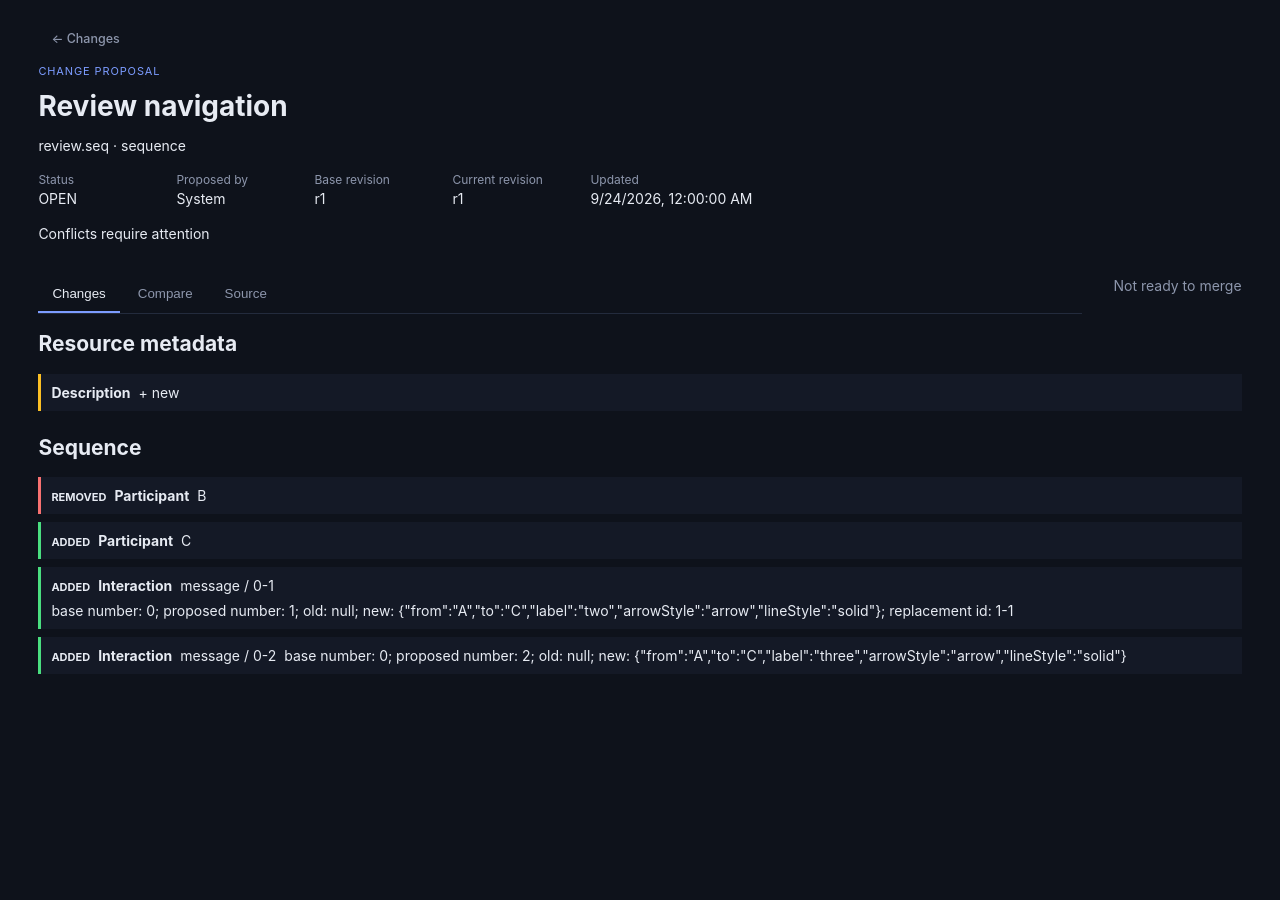
proposal review change navigation › sequence › disables previous at the start and next at the end
What coordinates should you click on to do the following:
click the button "Compare"
I would click on:
 (165, 294)
Its box is top-left (124, 276), bottom-right (207, 313).
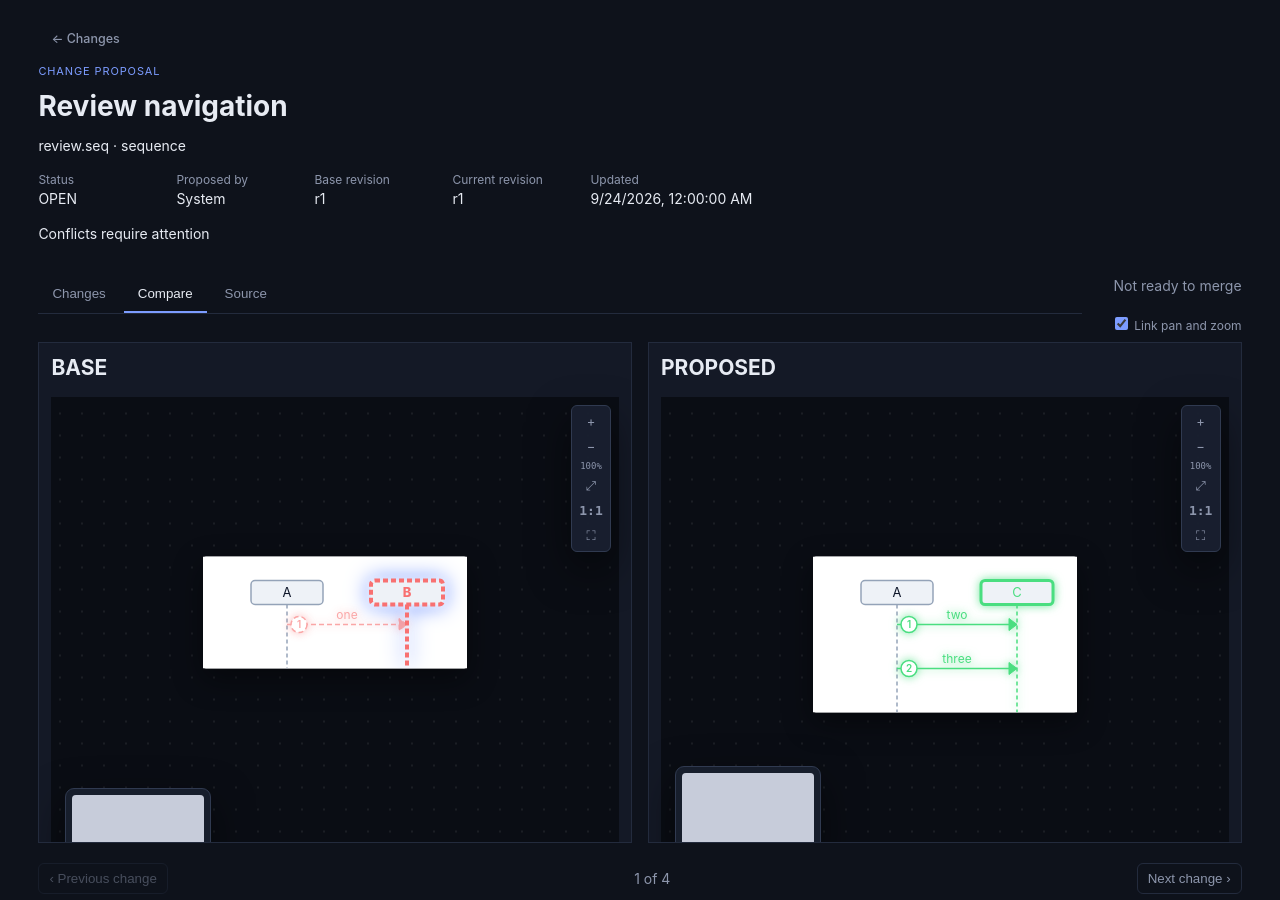
Check: the button with test id "change-previous" is disabled, box top-left (38, 863), bottom-right (168, 894)
Check: the button with test id "change-next" is enabled
What coordinates should you click on to do the following:
click the button with test id "change-next"
I would click on:
 (1189, 878)
Its box is top-left (1137, 863), bottom-right (1242, 894).
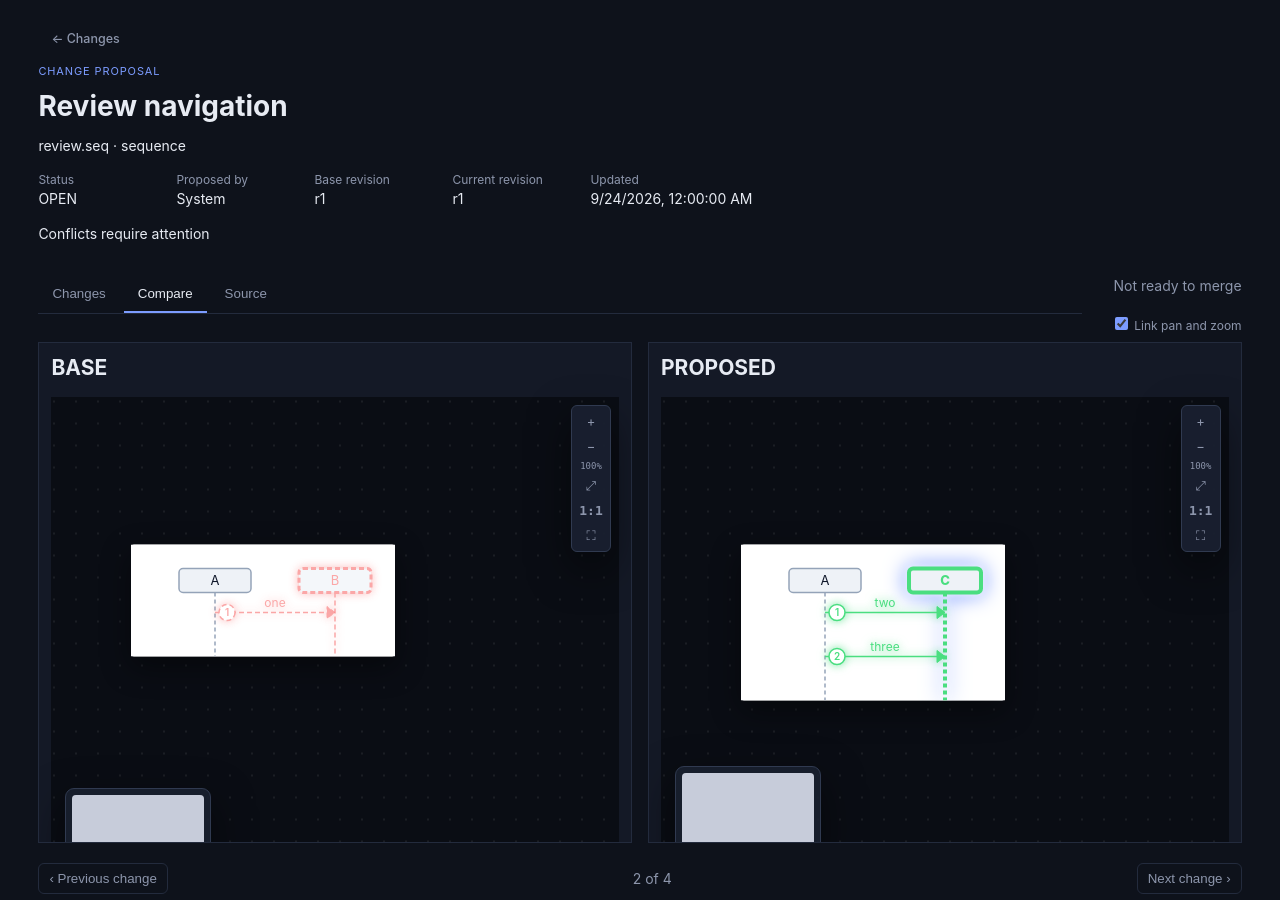
What coordinates should you click on to do the following:
click the button with test id "change-next"
I would click on:
 (1189, 878)
Its box is top-left (1137, 863), bottom-right (1242, 894).
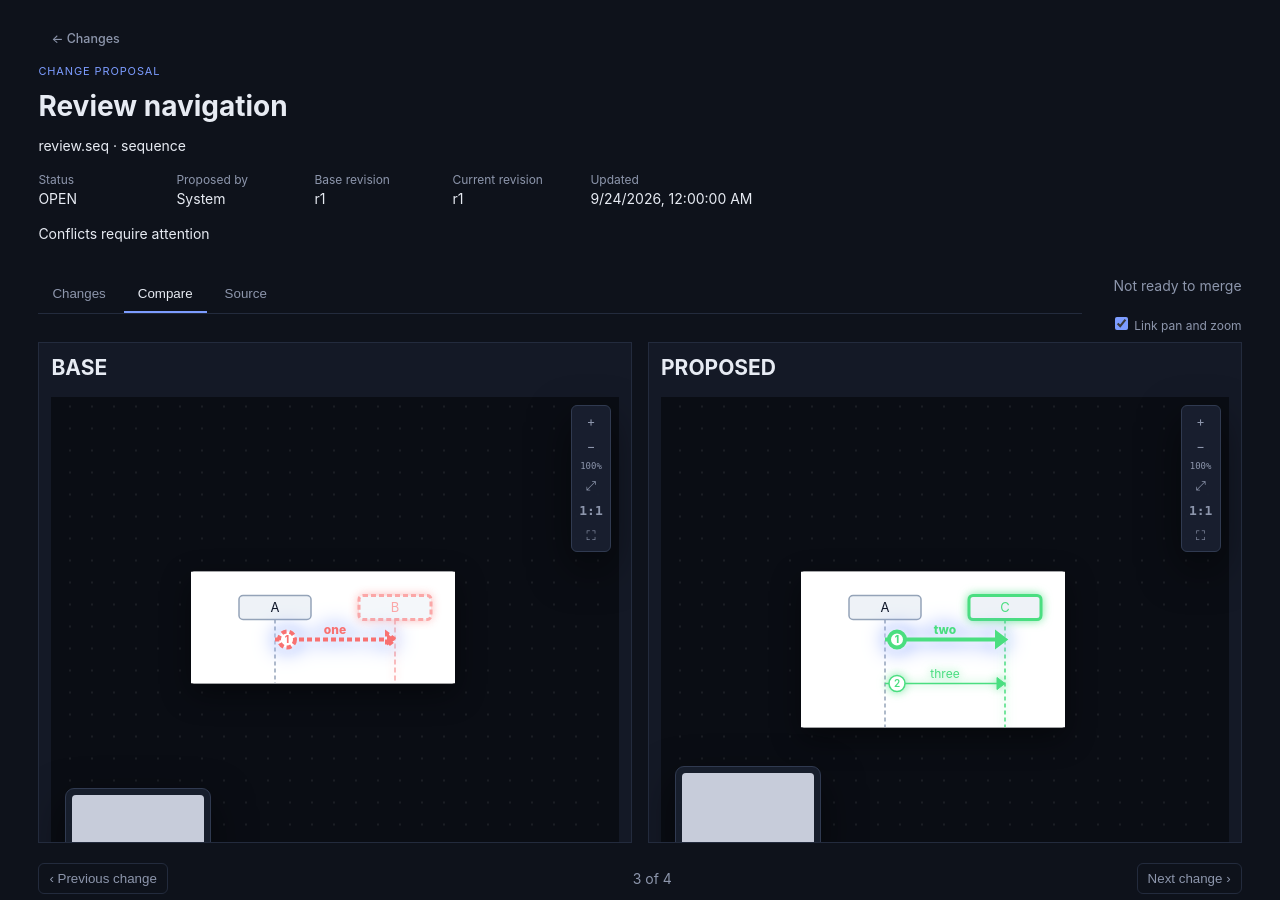
What coordinates should you click on to do the following:
click the button with test id "change-next"
I would click on:
 (1189, 878)
Its box is top-left (1137, 863), bottom-right (1242, 894).
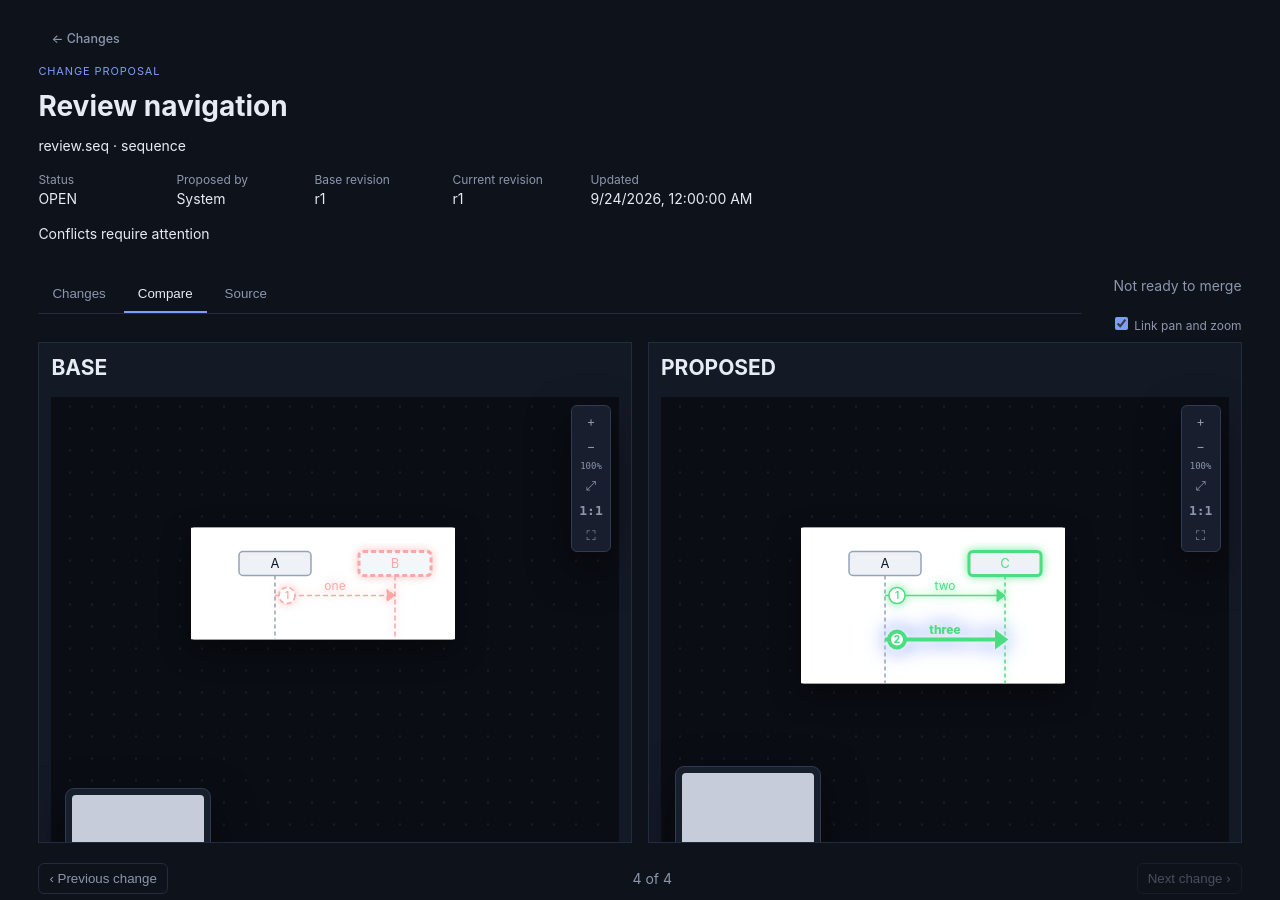
Check: the button with test id "change-previous" is enabled, box top-left (38, 863), bottom-right (168, 894)
Check: the button with test id "change-next" is disabled, box top-left (1137, 863), bottom-right (1242, 894)
